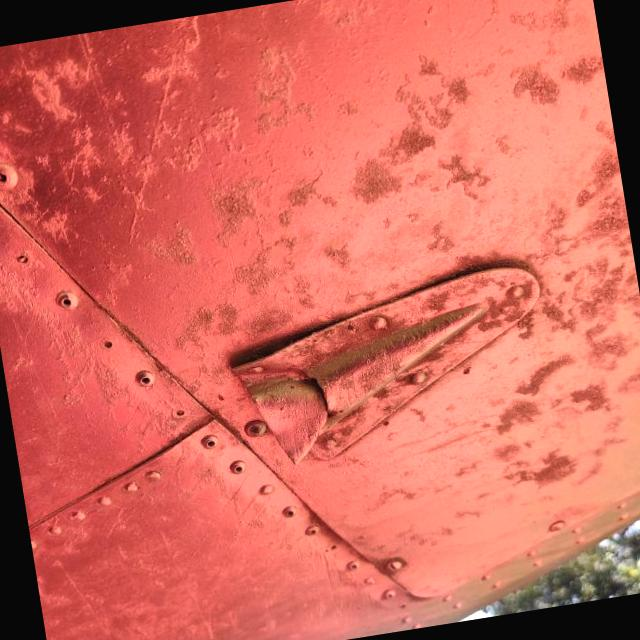crack: (286, 351, 352, 436)
